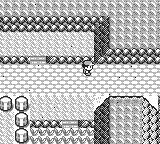captura: (30, 128, 94, 143)
main: (82, 61, 94, 75)
no-caminable: (1, 0, 160, 64), (94, 97, 158, 143), (1, 96, 30, 143)
salto: (47, 56, 94, 64), (30, 120, 61, 128), (1, 56, 29, 64), (78, 121, 93, 127)
